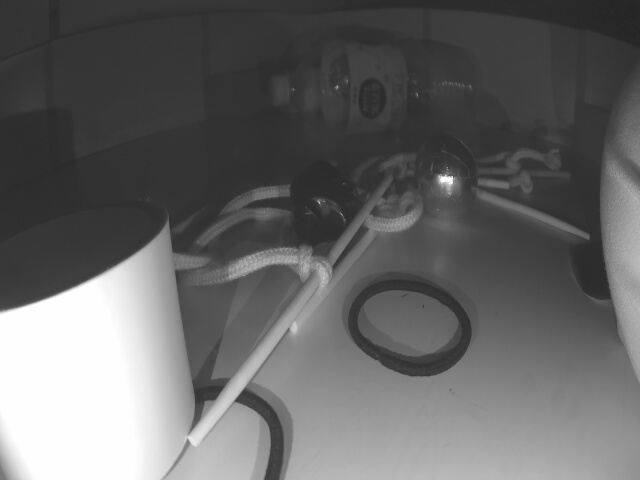Dead: (290, 164, 366, 246)
Live: (417, 133, 474, 216)
Point: (203, 70, 288, 120), (575, 101, 611, 166)
